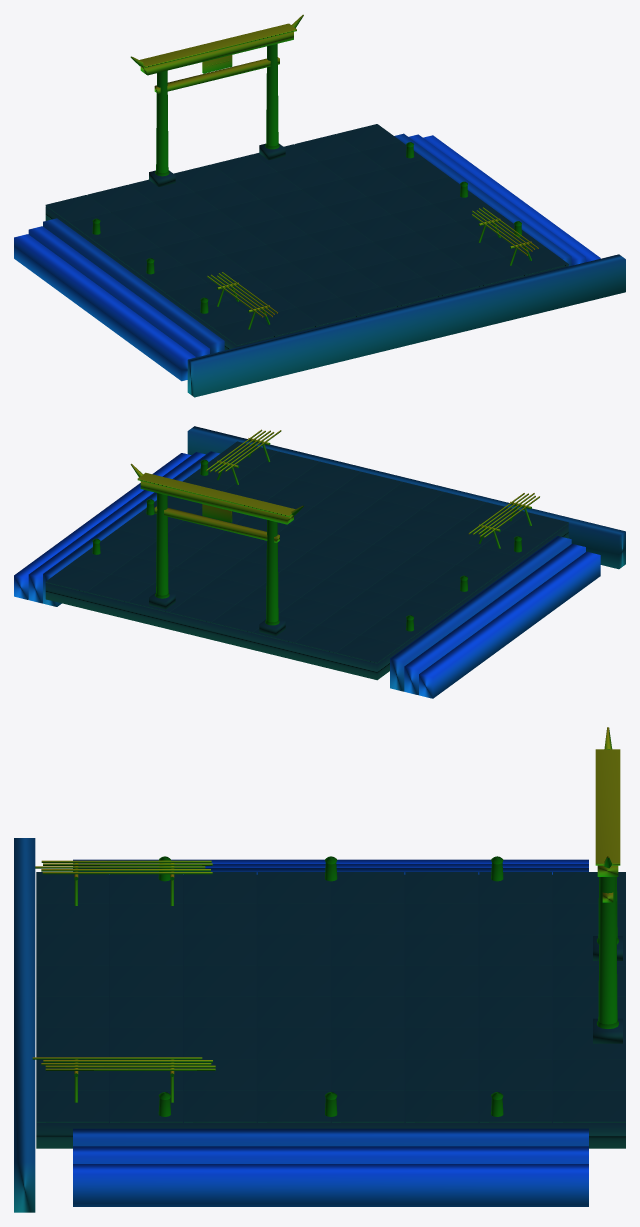
Rendered from mooring_platform.glb.
3 views of the same model, one above another, from view 1: azimuth 30°, elevation 25°; view 2: azimuth 150°, elevation 25°; view 3: azimuth 270°, elevation 25° (orthographic). The views are drawn at different scales.
Visible parts, largest first — view 1: mooring_platform; view 2: mooring_platform; view 3: mooring_platform.
Boxes of the visible parts, x1,y1,x2,y2 form: mooring_platform: (14, 14, 625, 397); mooring_platform: (14, 426, 625, 698); mooring_platform: (14, 727, 625, 1212).
Size of what is drawn, in the model's own units: 20.77 by 7.74 by 16.57.
